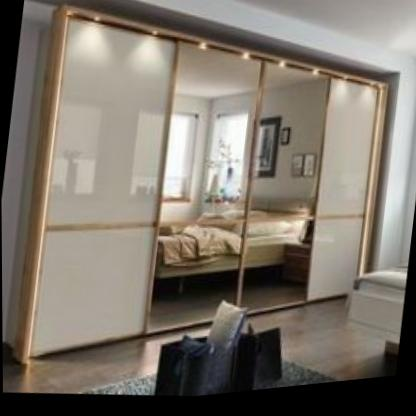Closet: (28, 7, 377, 358)
Wooden floor: (2, 329, 207, 396), (252, 304, 398, 389)
